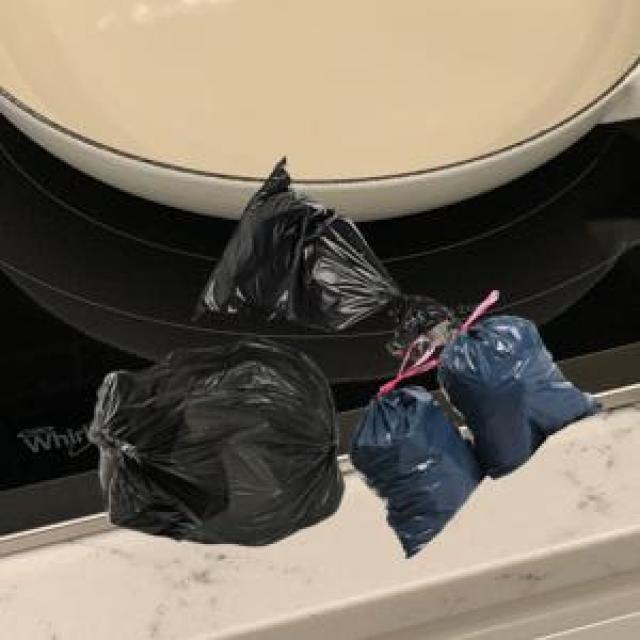waste: (90, 164, 449, 544), (351, 319, 598, 554)
